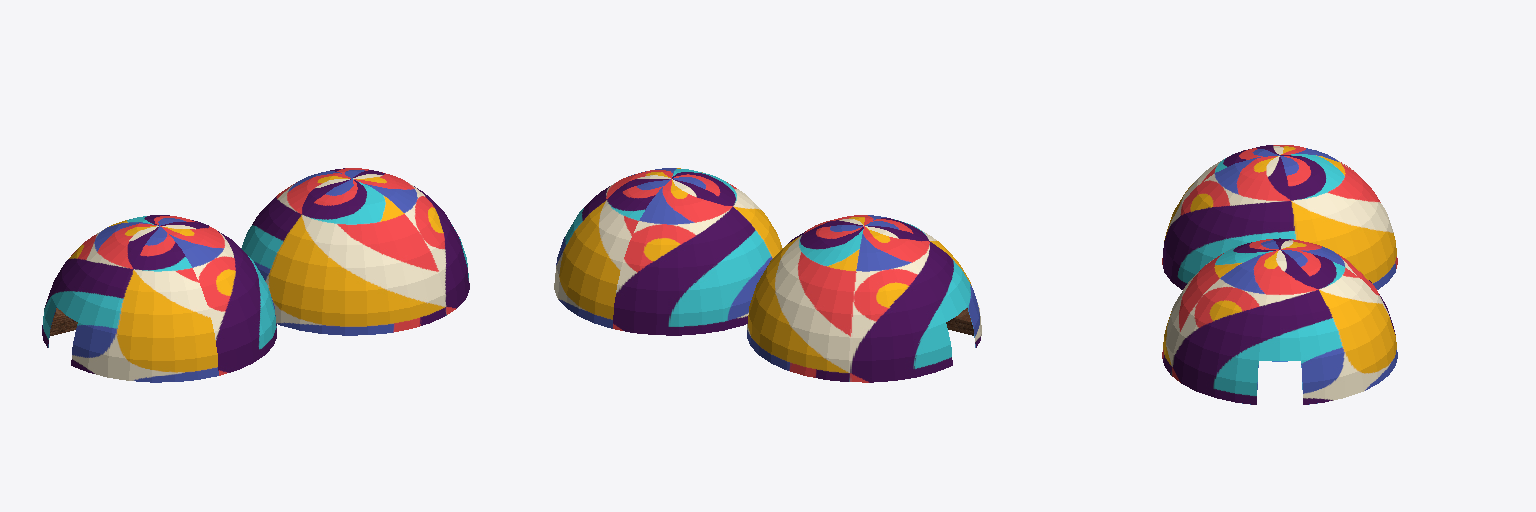
3 renders of one model, left to right at view 1: azimuth 30°, elevation 25°; view 2: azimuth 150°, elevation 25°; view 3: azimuth 270°, elevation 25°, orthographic.
Parts seen in each view (by area): view 1: DomoExt; view 2: DomoExt; view 3: DomoExt.
Part boxes in pixels (x1,y1,x2,y2): DomoExt: (42, 168, 469, 382); DomoExt: (554, 168, 981, 382); DomoExt: (1162, 145, 1397, 404).
Bounding box in the file's own units: 114 × 29.76 × 59.41.
3 materials, 3 textured.